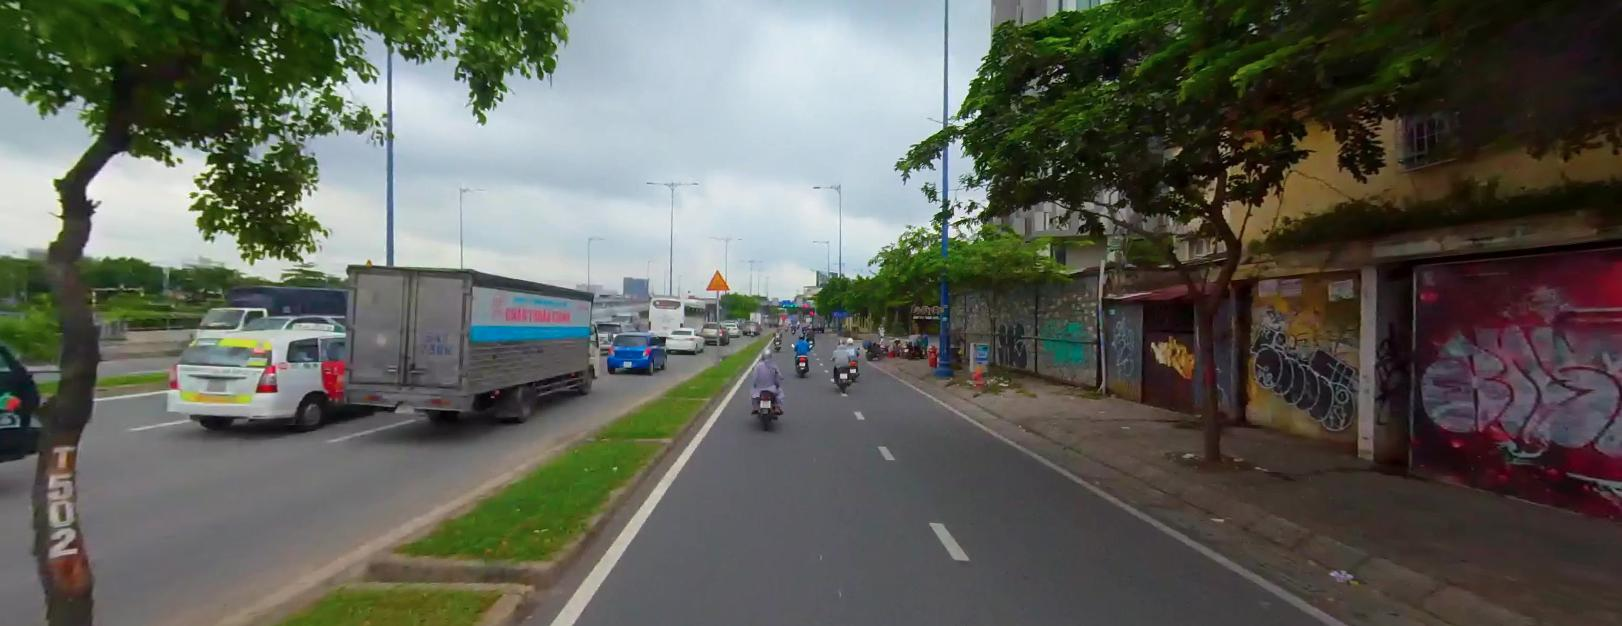Nguy hiem: (705, 268, 730, 290)
